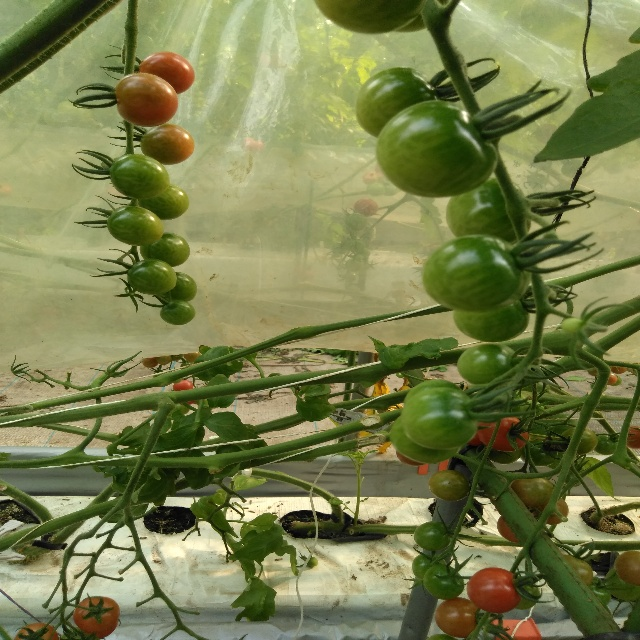l_fully_ripened: (138, 51, 196, 96), (466, 567, 521, 613), (476, 412, 529, 452), (173, 379, 194, 391)
l_green: (375, 100, 498, 198), (421, 234, 534, 312), (355, 66, 450, 138), (446, 178, 531, 245), (403, 387, 479, 450), (313, 0, 428, 35), (389, 412, 461, 464), (453, 298, 531, 343), (109, 153, 170, 200), (457, 343, 522, 386), (106, 205, 164, 247), (403, 380, 466, 411), (138, 184, 189, 221), (139, 232, 191, 268), (127, 258, 176, 295), (422, 564, 465, 600), (427, 469, 470, 501), (413, 521, 454, 552), (605, 568, 640, 602), (157, 272, 197, 301), (558, 427, 597, 456), (520, 439, 558, 467), (514, 574, 541, 610), (159, 299, 195, 325), (412, 554, 446, 580), (485, 444, 521, 465), (594, 433, 619, 455), (588, 581, 610, 604), (521, 399, 544, 418), (561, 318, 582, 333)
l_half_ripened: (116, 71, 179, 127), (139, 123, 194, 165), (434, 597, 482, 638), (72, 596, 120, 633), (510, 475, 555, 508), (525, 494, 569, 525), (562, 554, 593, 587), (615, 551, 640, 586), (14, 622, 59, 640), (497, 516, 521, 544), (183, 352, 202, 362), (142, 357, 159, 368), (156, 355, 173, 365)
